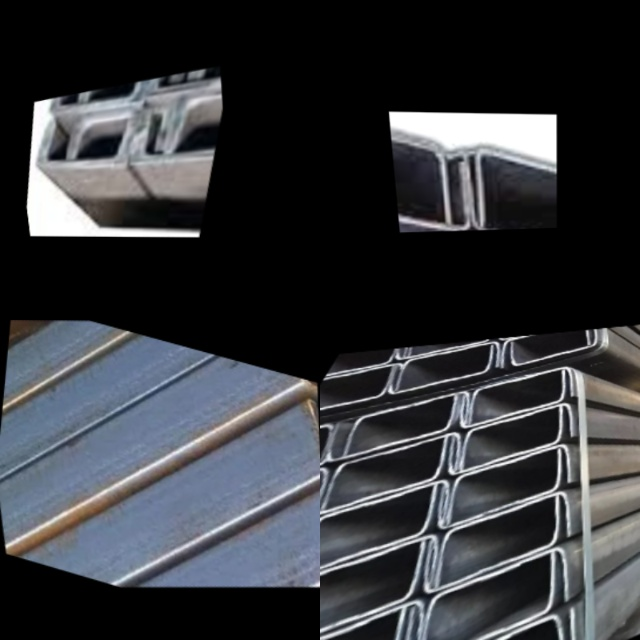Shveller: (419, 546, 570, 640), (416, 496, 559, 595), (396, 553, 554, 640), (320, 532, 446, 640), (435, 490, 572, 587), (320, 479, 455, 574), (320, 485, 437, 584), (321, 432, 466, 508), (320, 541, 427, 640), (431, 449, 560, 530), (320, 437, 450, 517), (448, 443, 572, 523), (320, 393, 459, 461), (389, 112, 464, 228), (343, 391, 475, 454), (443, 407, 563, 474), (461, 402, 572, 468), (389, 112, 448, 220), (455, 370, 565, 427), (466, 163, 557, 230), (469, 366, 574, 424), (479, 152, 557, 230), (33, 114, 136, 171), (130, 102, 226, 162), (384, 345, 493, 394), (67, 105, 169, 157), (395, 342, 504, 390), (411, 608, 574, 640), (320, 598, 432, 640), (402, 613, 566, 640), (320, 363, 407, 412), (50, 78, 146, 117), (320, 366, 395, 415), (500, 329, 590, 368), (165, 94, 225, 149), (507, 329, 596, 365), (396, 190, 463, 233), (287, 375, 320, 454), (320, 610, 406, 640), (397, 201, 477, 233), (325, 347, 409, 376), (320, 467, 340, 542), (320, 423, 344, 485)
